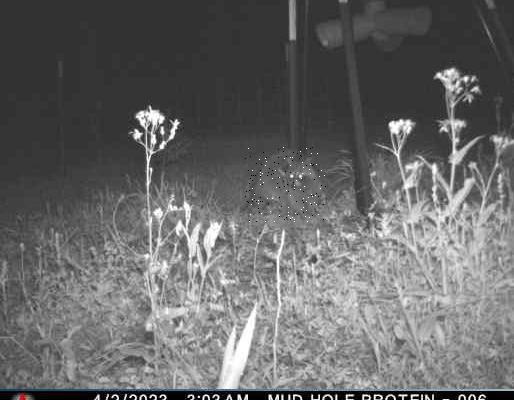Raccoon: (245, 148, 326, 223)
